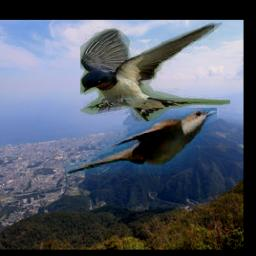Cuckoo: (66, 108, 218, 174)
Swallow: (81, 22, 231, 122)
